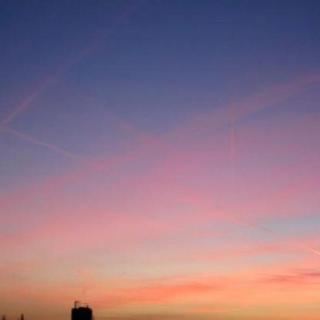Contrails: (123, 104, 320, 284), (0, 42, 110, 176)
